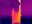Hotspot: (15, 0, 21, 23)
